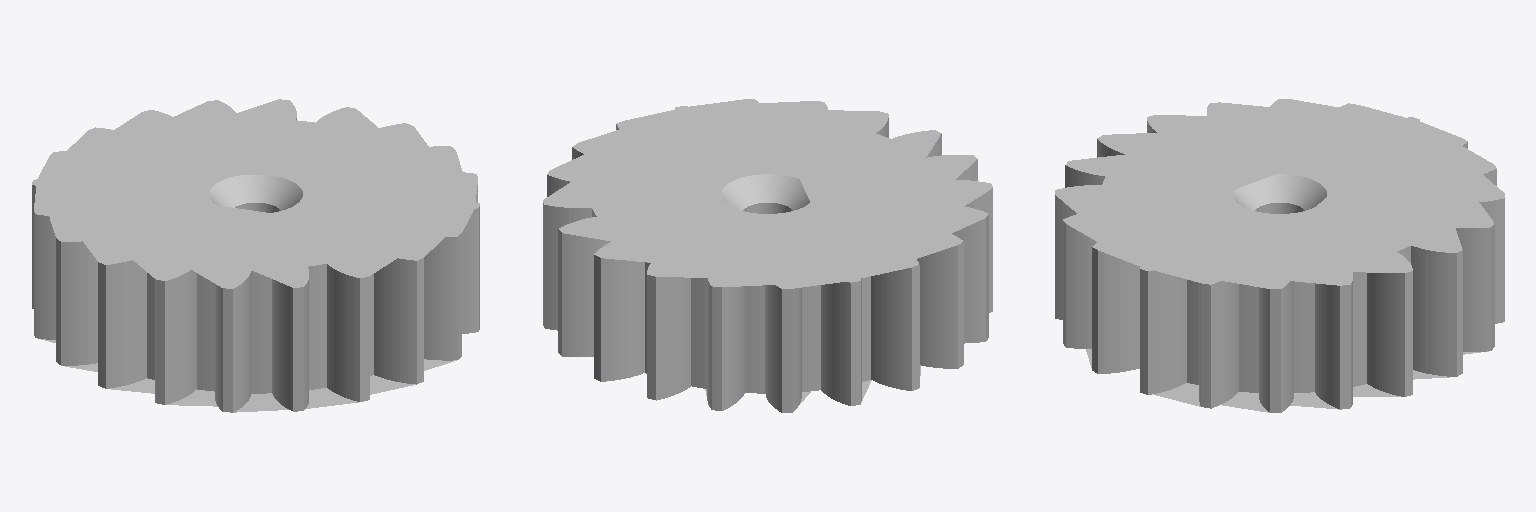
Rendered from Prints_gear.obj.
3 views of the same model, side by side, from view 1: azimuth 30°, elevation 25°; view 2: azimuth 150°, elevation 25°; view 3: azimuth 270°, elevation 25° (orthographic).
Visible parts, largest first — view 1: gear; view 2: gear; view 3: gear.
Part boxes in pixels (left/top/right/bottom): gear: left=32, top=99, right=479, bottom=412; gear: left=543, top=99, right=992, bottom=412; gear: left=1055, top=99, right=1504, bottom=412.
Size of the model in its own units: 0.0211 by 0.0064 by 0.0211.